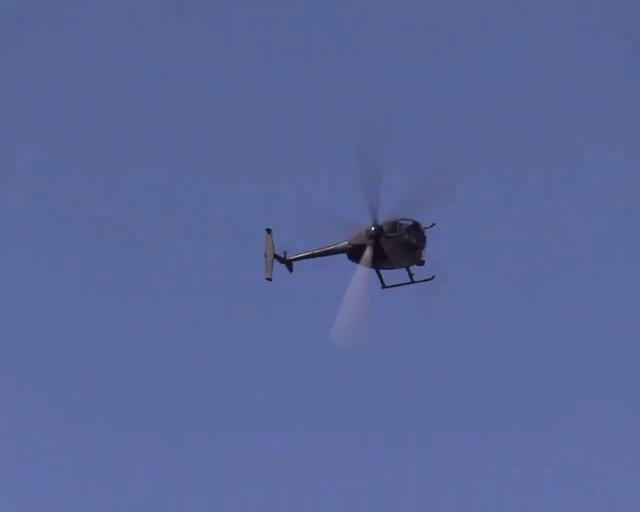HELICOPTER: (261, 128, 443, 291)
